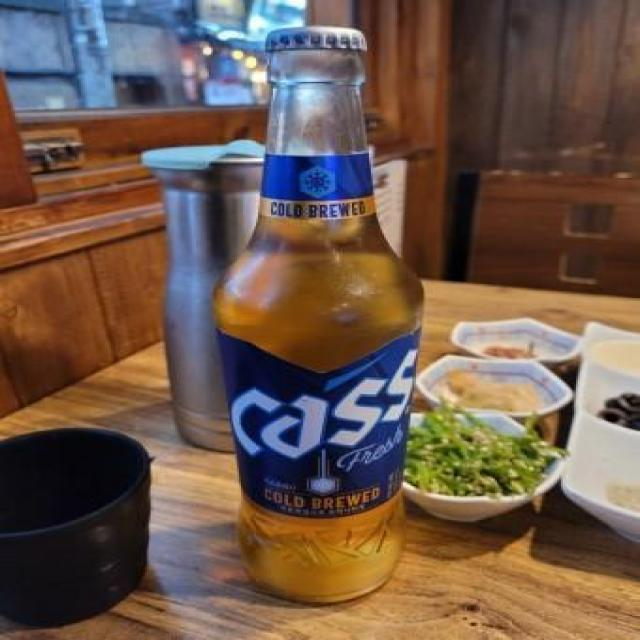beer-bottle: (216, 24, 406, 613)
